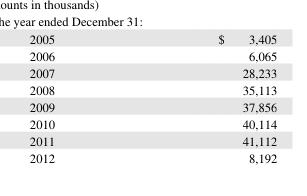table: (28, 29, 276, 165)
table column: (135, 29, 276, 165), (28, 29, 135, 165)
table row: (28, 29, 276, 46), (28, 46, 276, 63), (28, 63, 276, 80), (28, 80, 276, 97), (28, 97, 276, 114), (28, 114, 276, 131), (28, 131, 276, 148), (28, 148, 276, 165)
